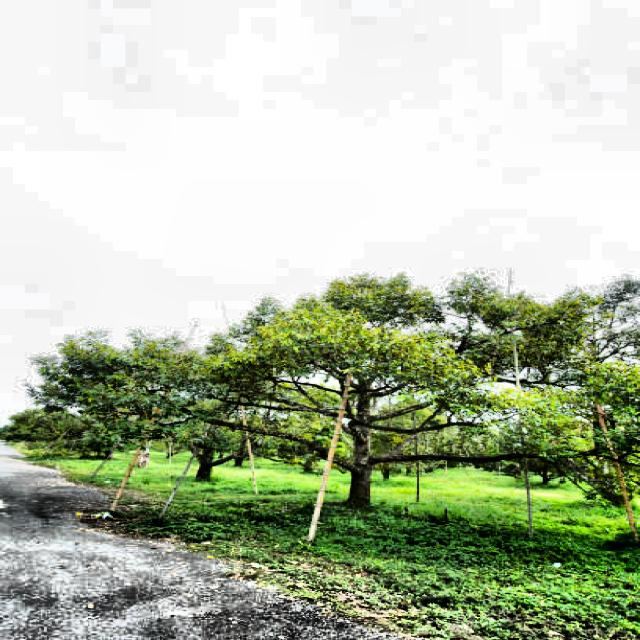arvore: (340, 363, 382, 512), (184, 397, 227, 484)
